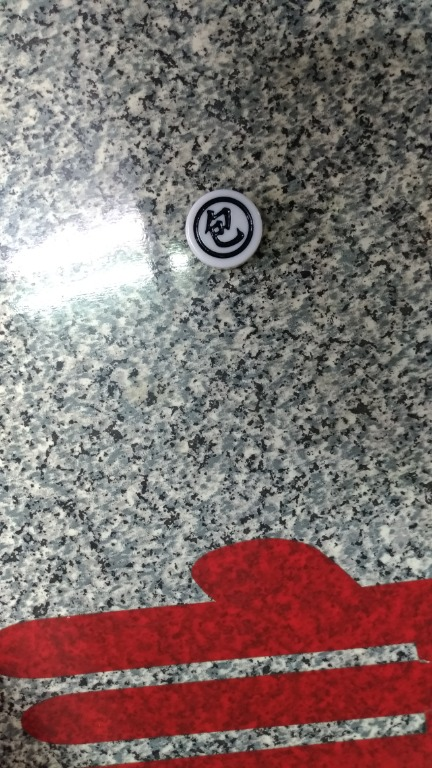b-cannon: (175, 172, 283, 280)
